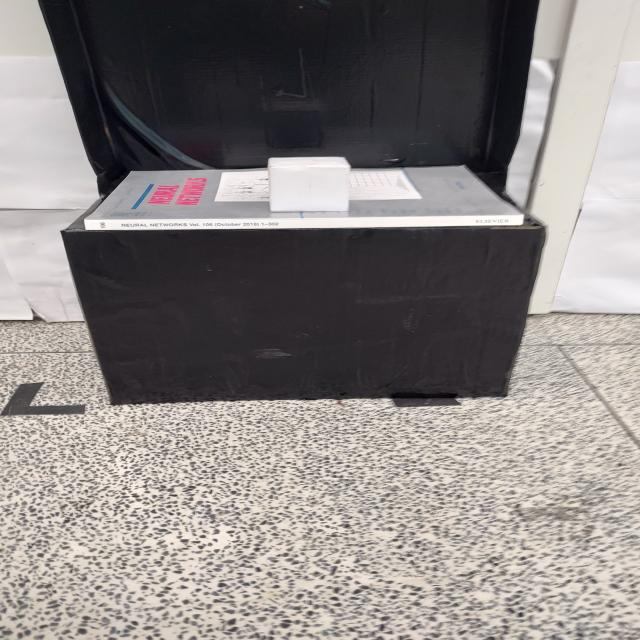bale: (266, 155, 352, 214)
